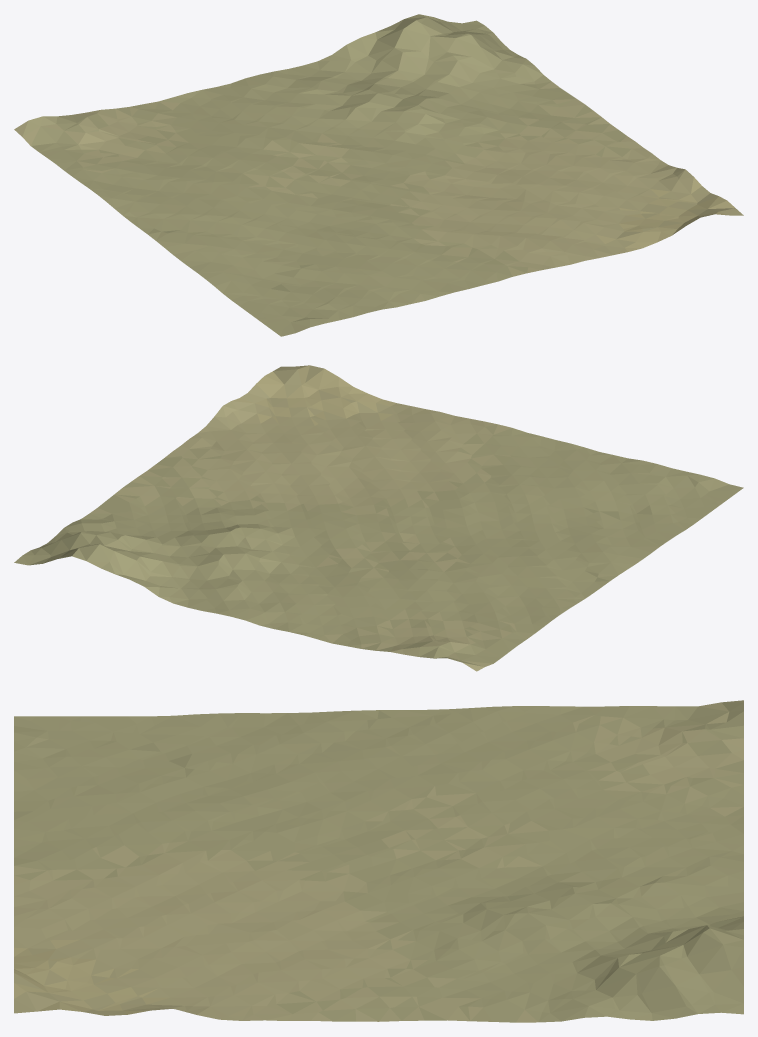
Rendered from Ground_1_-10.glb.
The picture shows the model from 3 angles, top to bottom: view 1: azimuth 30°, elevation 25°; view 2: azimuth 150°, elevation 25°; view 3: azimuth 270°, elevation 25°; orthographic projection. The views are drawn at different scales.
Parts seen in each view (by area): view 1: Ground_1_-10; view 2: Ground_1_-10; view 3: Ground_1_-10.
Part boxes in pixels (x1,y1,x2,y2): Ground_1_-10: [14, 14, 743, 336]; Ground_1_-10: [14, 365, 743, 671]; Ground_1_-10: [14, 700, 743, 1022].
Bounding box in the file's own units: 768 × 55.49 × 768.
